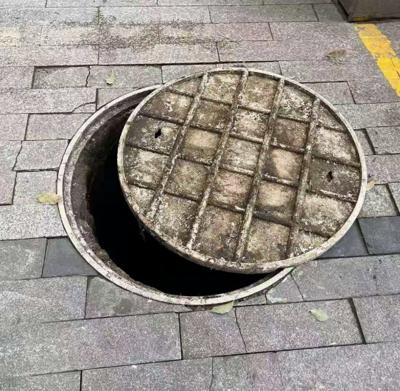wellcover: (58, 56, 369, 310)
